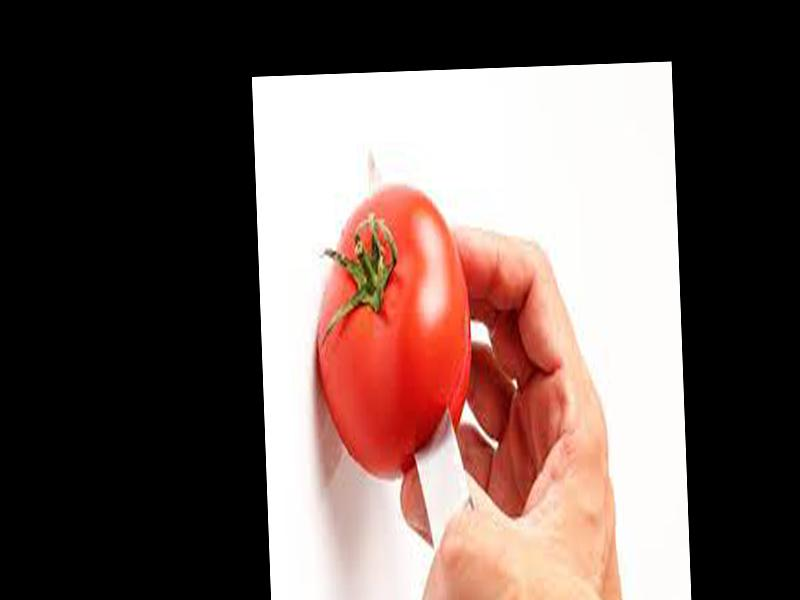Tomato: (312, 188, 477, 481)
